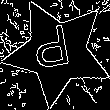P_S: (35, 24, 80, 80)
